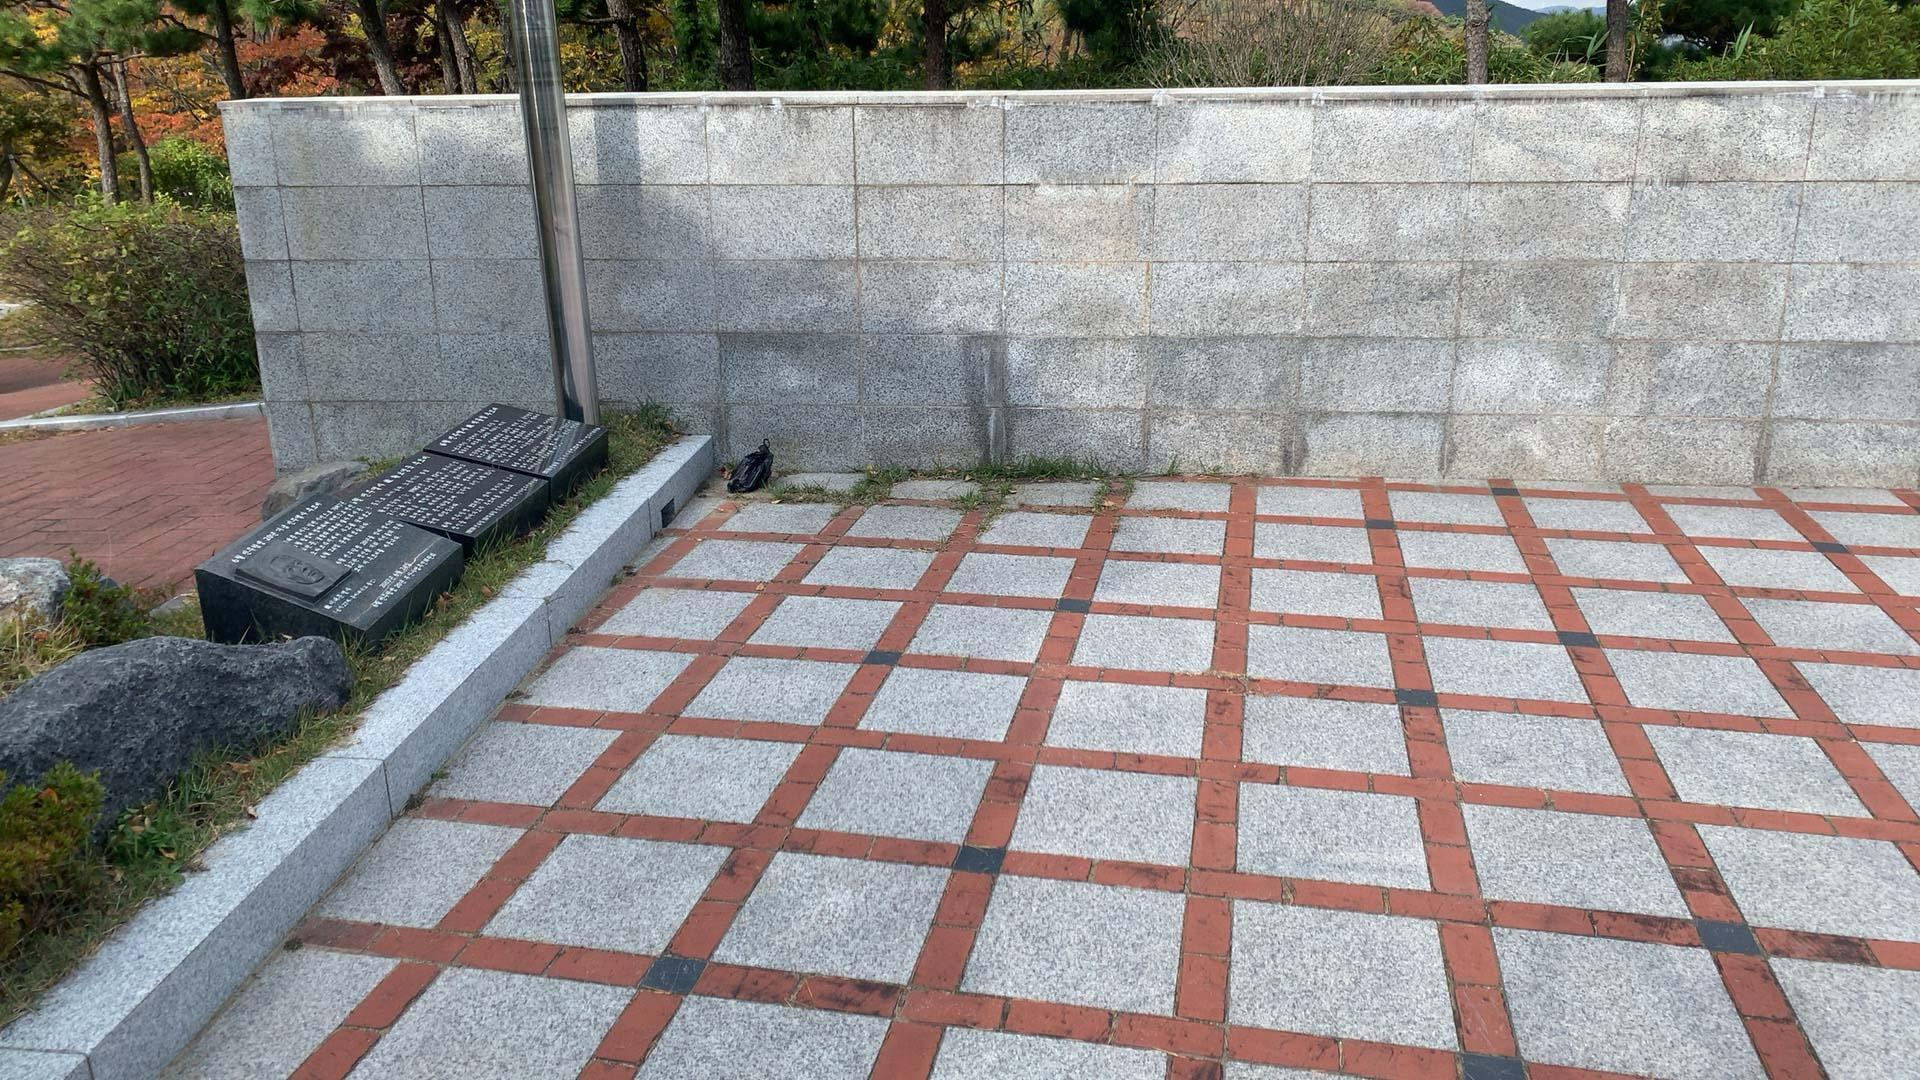black_bag: (725, 438, 777, 493)
